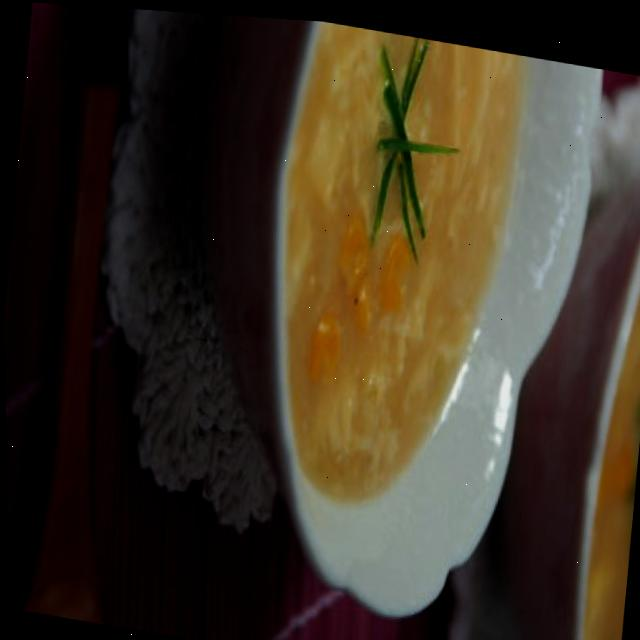汤锅炖物: (234, 12, 625, 608)
